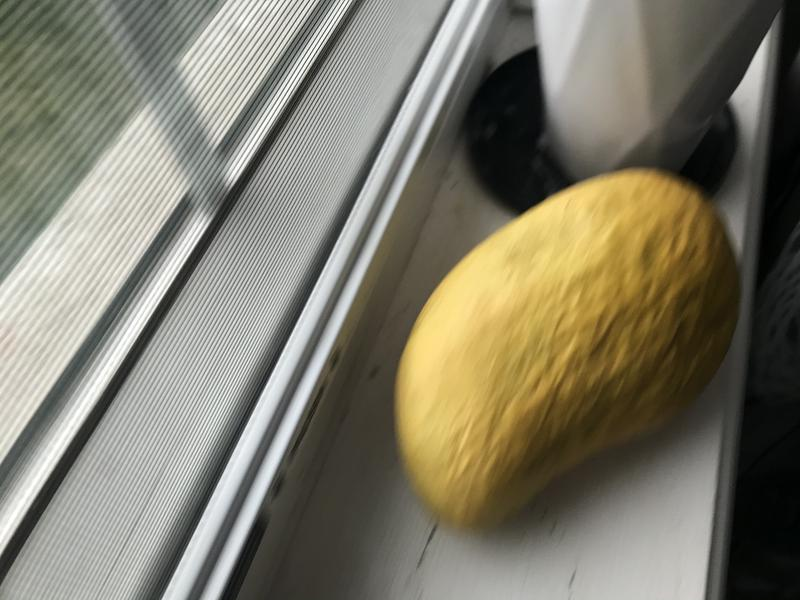w: (380, 158, 753, 554)
